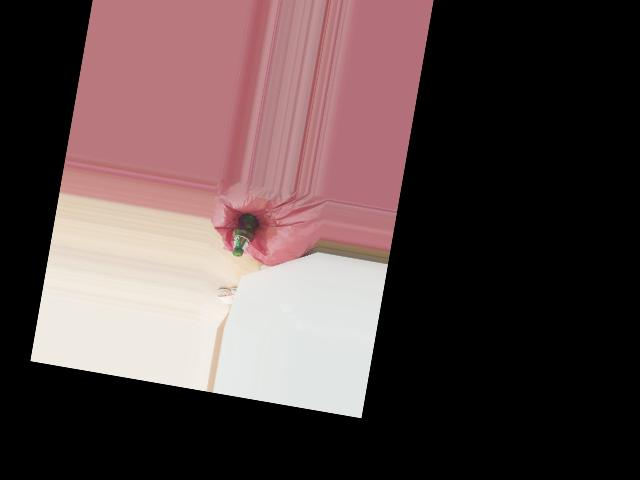beer: (229, 211, 260, 258)
